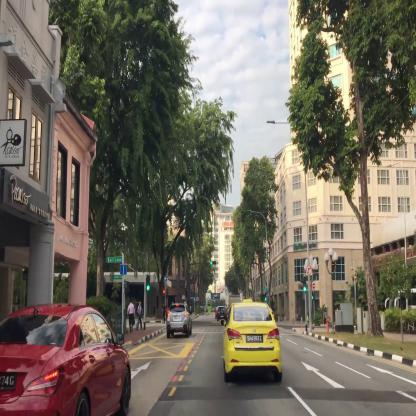green_traffic_light: (146, 275, 150, 290), (303, 277, 306, 290), (210, 261, 216, 264), (264, 293, 266, 300)
